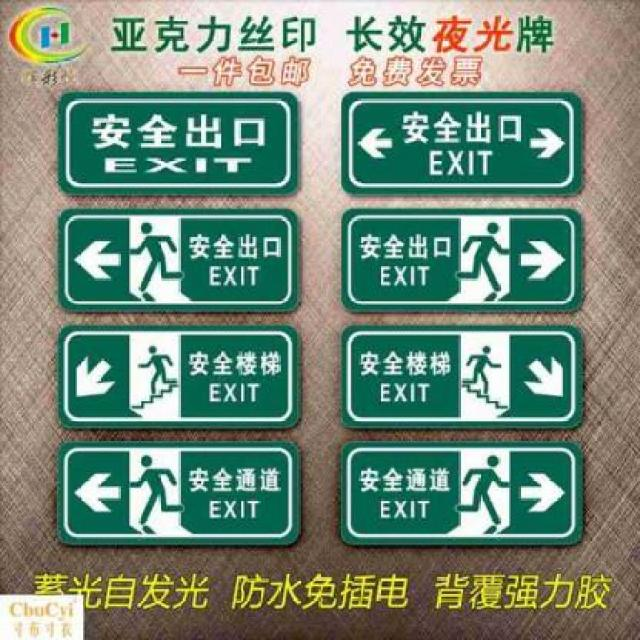exit_sign: (55, 88, 301, 202), (335, 323, 587, 433), (339, 202, 586, 314), (55, 442, 301, 552), (335, 440, 588, 545), (340, 86, 582, 195), (54, 328, 301, 429), (52, 212, 298, 312)
